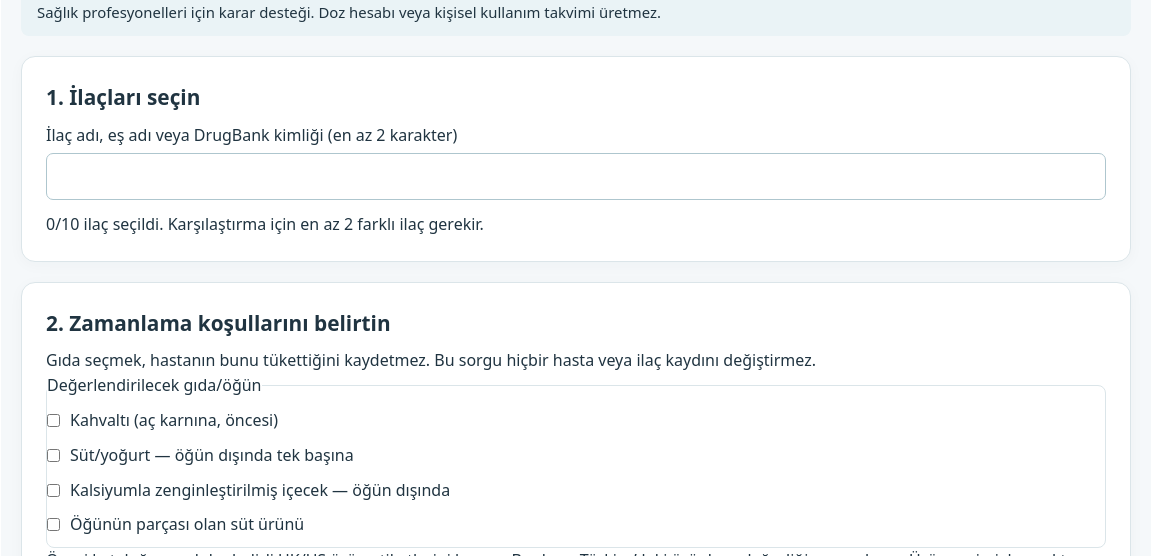
Test: M02 complete screen › does not present a failed advice lookup as no evidence
Type "Drug" into the field labelled "İlaç adı, eş adı veya DrugBank kimliği (en az 2 karakter)". click: (576, 176)
box: [46,153,1106,200]
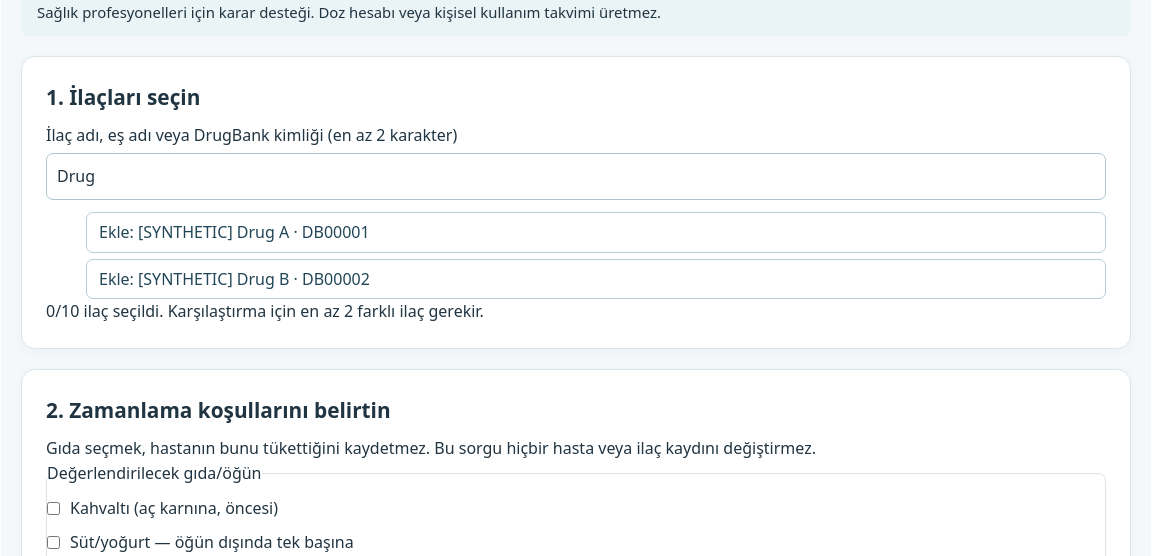
Click the button "Ekle: [SYNTHETIC] Drug A · DB00001". click: (119, 232)
box: [86,212,1106,253]
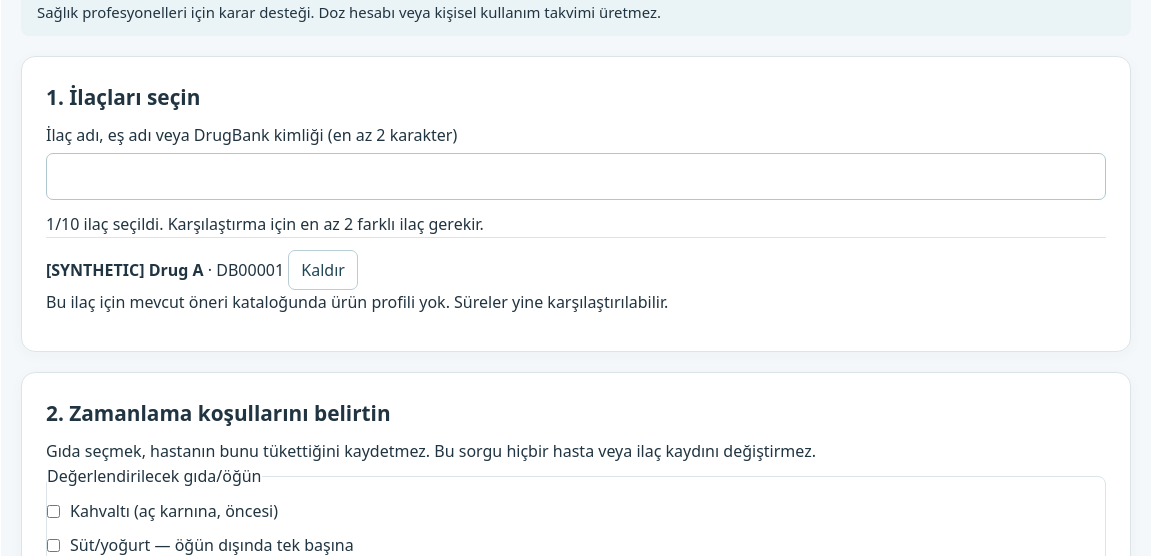
Type "Drug" into the field labelled "İlaç adı, eş adı veya DrugBank kimliği (en az 2 karakter)". click: (576, 176)
box: [46,153,1106,200]
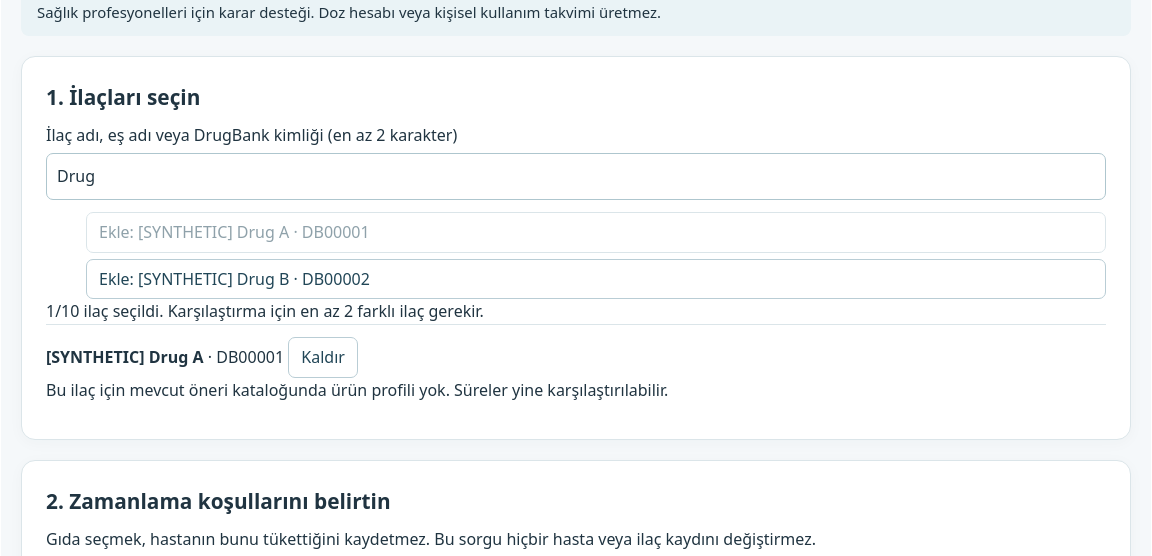
Click the button "Ekle: [SYNTHETIC] Drug B · DB00002". click: (119, 279)
box: [86,259,1106,300]
(page scrolled)
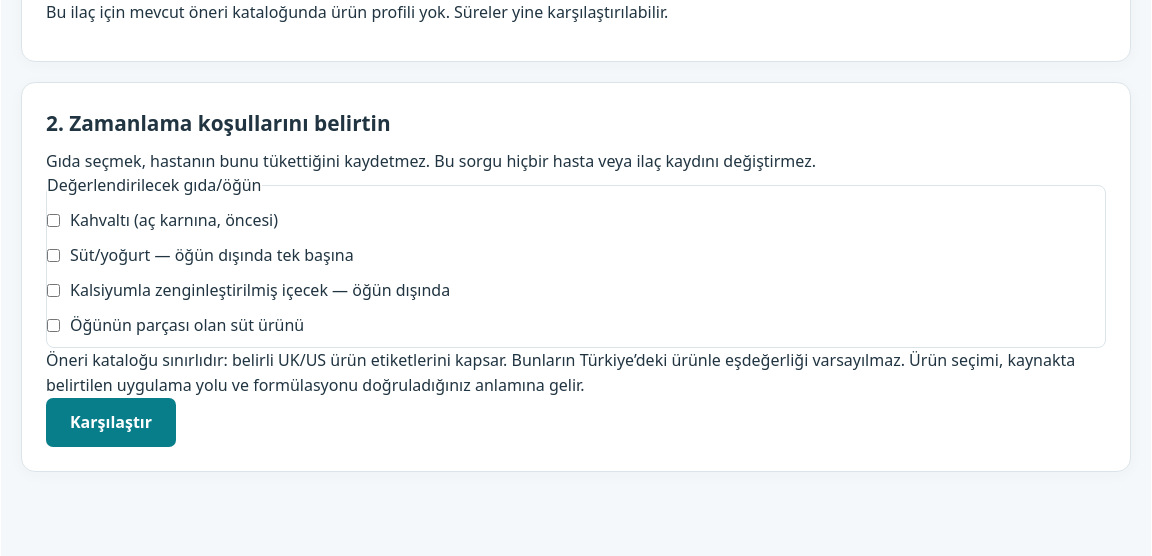
Click the button "Karşılaştır". click: (111, 422)
box: [46,398,176,447]
(page scrolled)
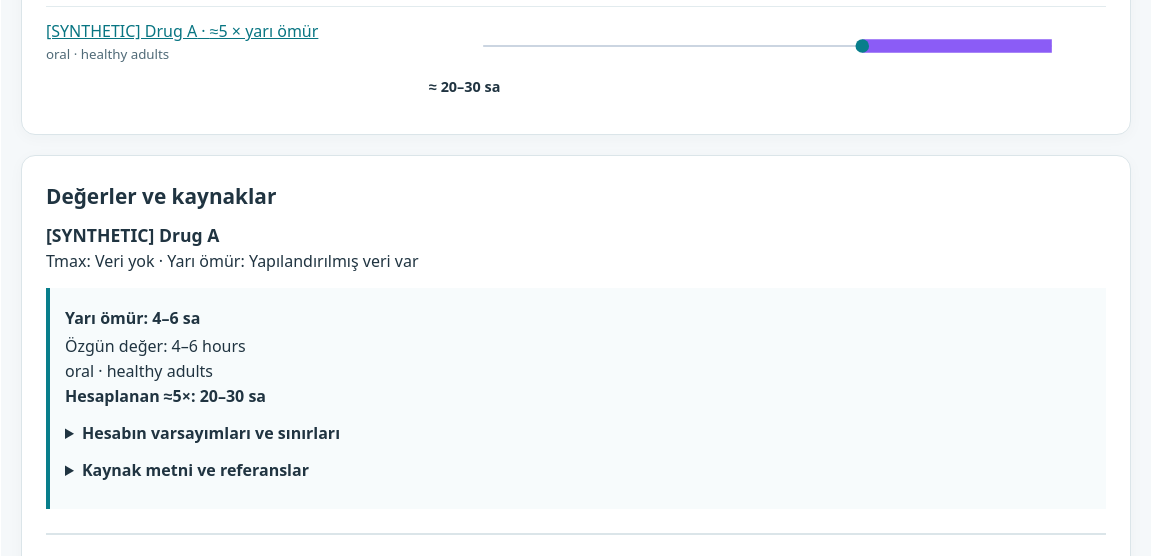
Now the heading "Değerler ve kaynaklar" is shown, box [46,182,276,210]
